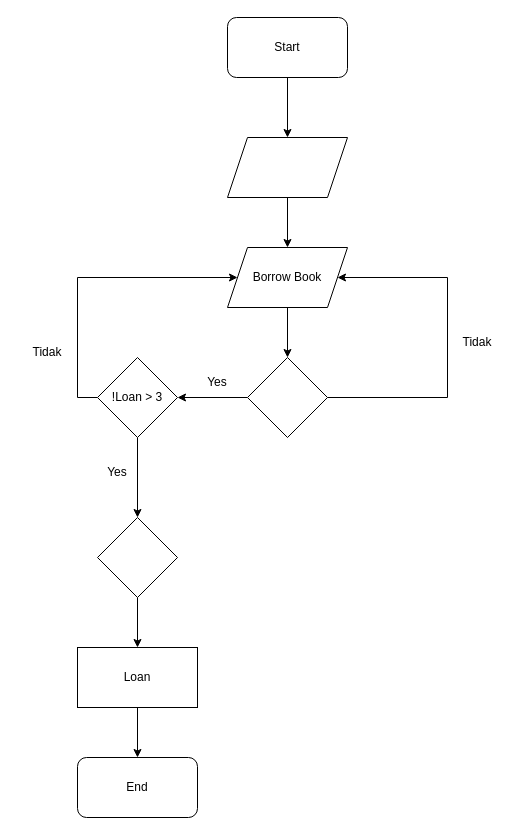
The diagram is 524 pixels wide and 835 high, and some of its shapes have lost their labels. The shapes that lost their labels are listed below. From the top down, each one's box as (x1, y1, x2, y2) in pixels, then its label:
(226, 136, 348, 198): User
(246, 356, 328, 438): Stock < 0
(96, 516, 178, 598): LoanBook - stock
